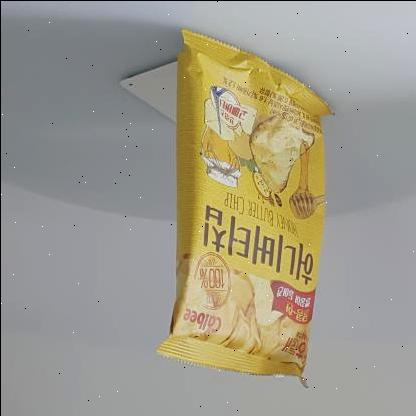Others: (156, 20, 340, 400)
